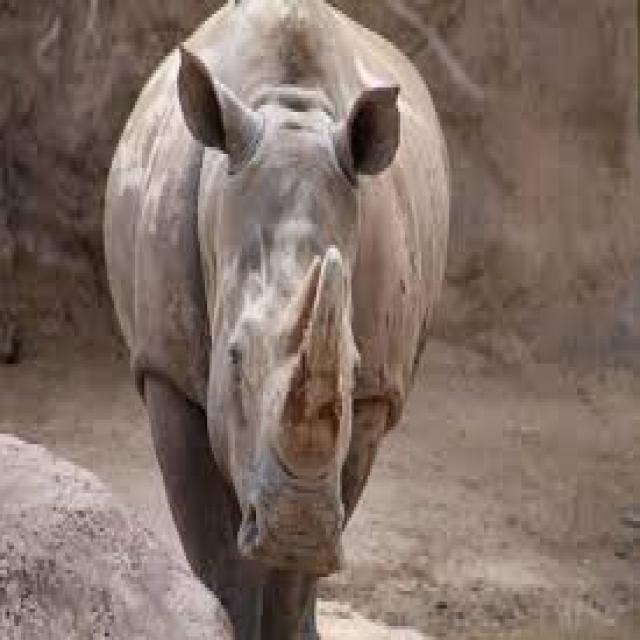rhinoceros: (105, 0, 447, 637)
